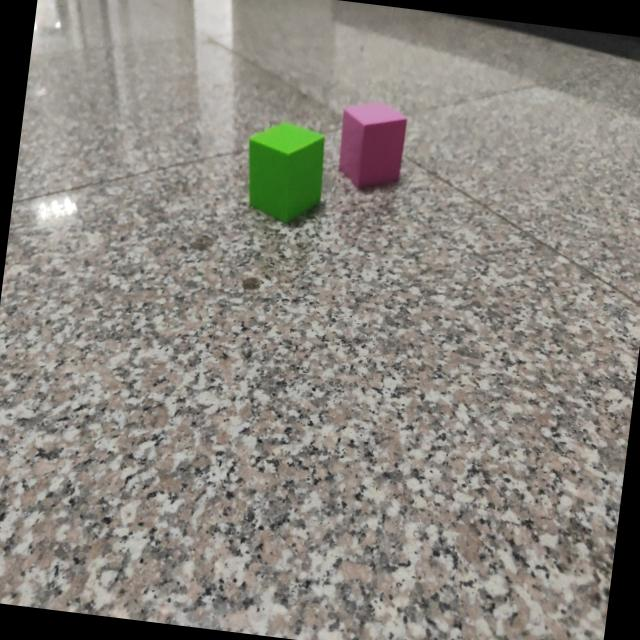green: (246, 123, 324, 228)
pink: (339, 103, 408, 192)
